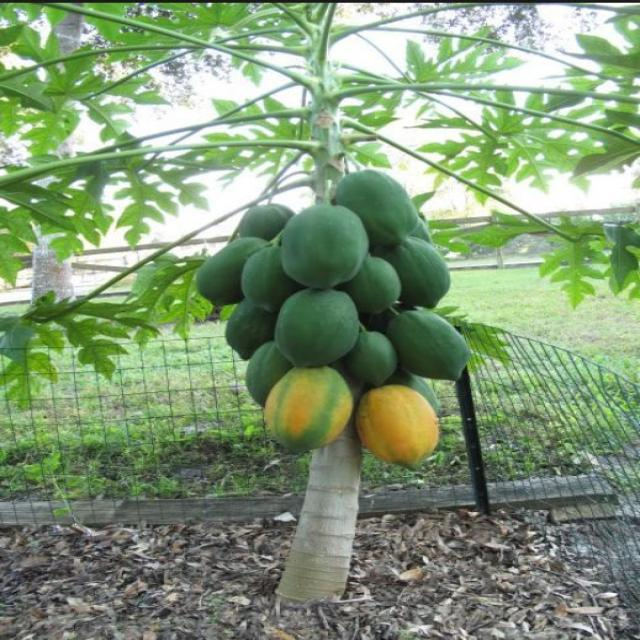Pepaya rippen: (264, 370, 355, 457), (360, 386, 440, 471)
Pepaya unrippen: (281, 206, 370, 292), (265, 287, 363, 365), (337, 170, 423, 245), (387, 238, 456, 310), (401, 310, 470, 380)
